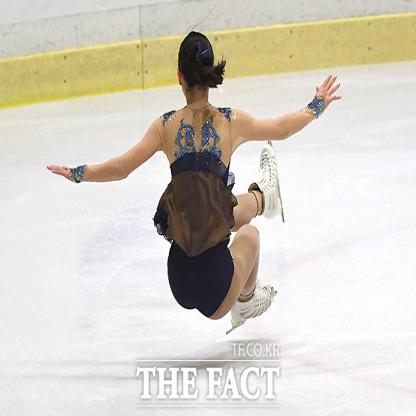Fall_Down: (46, 30, 344, 329)
